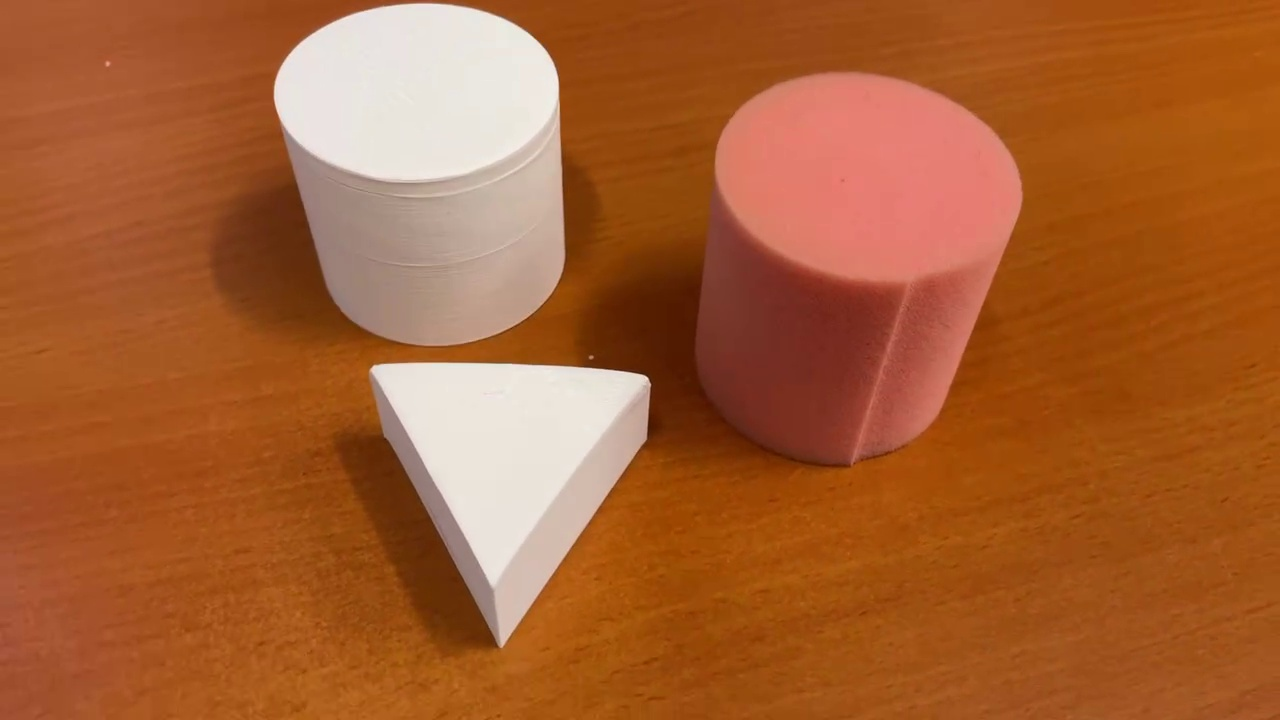Cylinder: (680, 67, 1027, 474), (268, 1, 576, 351)
Triangle_short: (362, 355, 663, 650)
